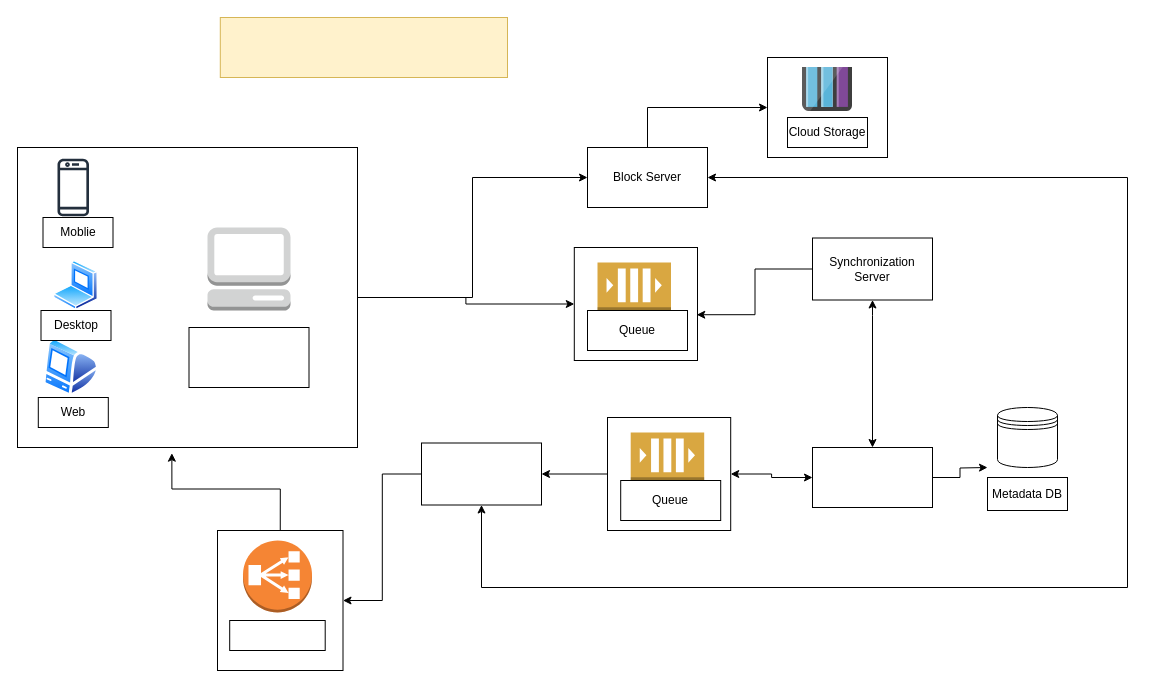
Image size: 1154x688. Some labels were removed from this diagram. The centre of each missing label's shape, as x and y in pixels:
Client (Chunker/ Indexer/Watcher/ Internal DB): the point at 248,357
Dropbox SaaS design: the point at 363,47
LB: the point at 277,635
Metadata Server: the point at 872,477
Notification Server: the point at 481,473
